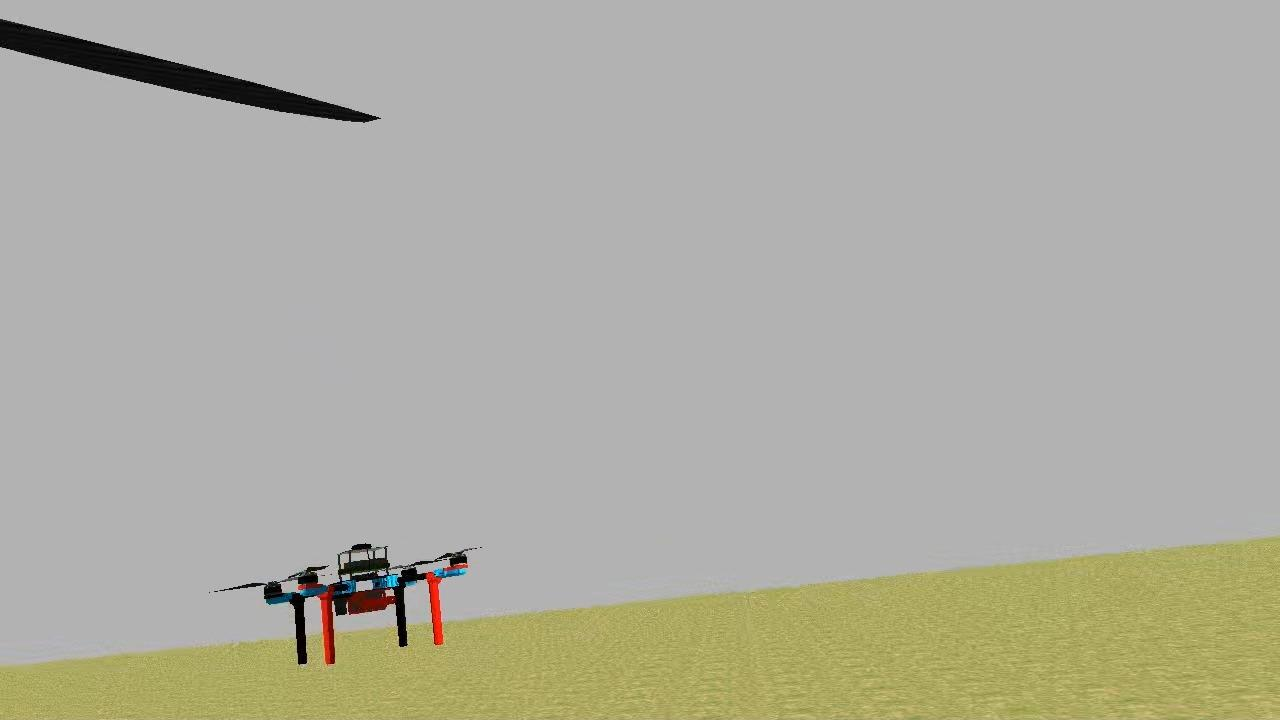UAV: (256, 530, 472, 668)
